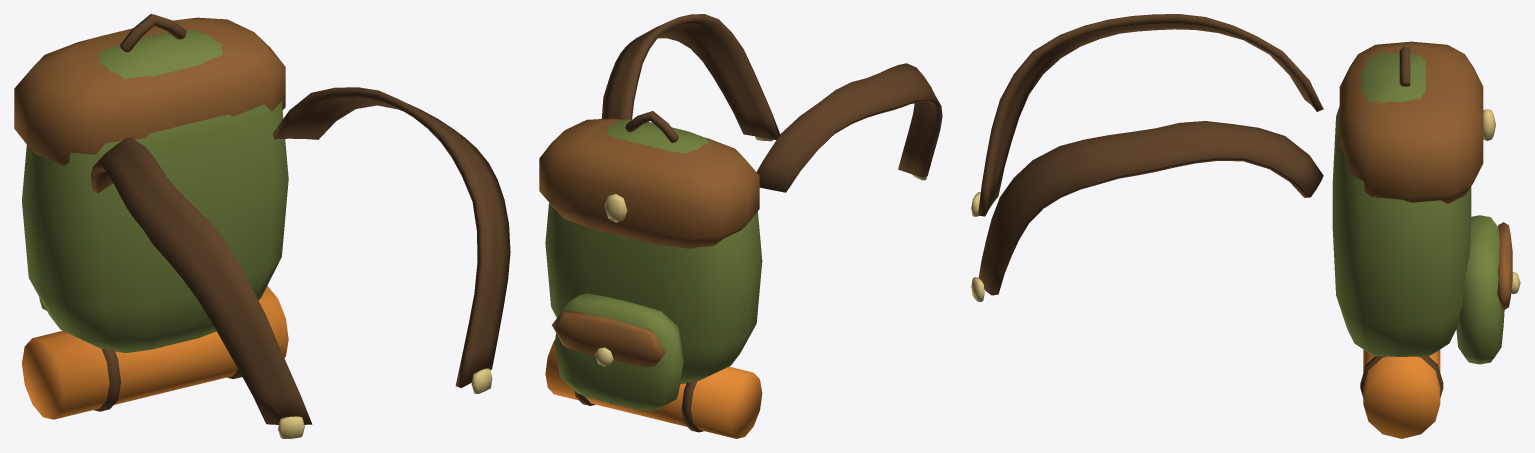
File: back_backpack.glb
The picture shows the model from 3 angles, left to right: view 1: azimuth 30°, elevation 25°; view 2: azimuth 150°, elevation 25°; view 3: azimuth 270°, elevation 25°; orthographic projection. The views are drawn at different scales.
Parts seen in each view (by area): view 1: BackBackpack; view 2: BackBackpack; view 3: BackBackpack.
Boxes of the visible parts, left/top/right/bottom form: BackBackpack: left=14, top=14, right=510, bottom=438; BackBackpack: left=539, top=14, right=942, bottom=438; BackBackpack: left=971, top=14, right=1520, bottom=438.
Bounding box in the file's own units: 0.478 × 0.5136 × 0.7399.
